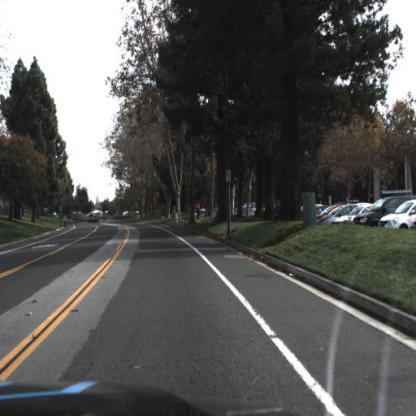biker: (69, 214, 72, 229)
car: (353, 194, 416, 232), (320, 204, 363, 230)
pedestrian: (193, 196, 203, 223), (65, 215, 68, 229)
